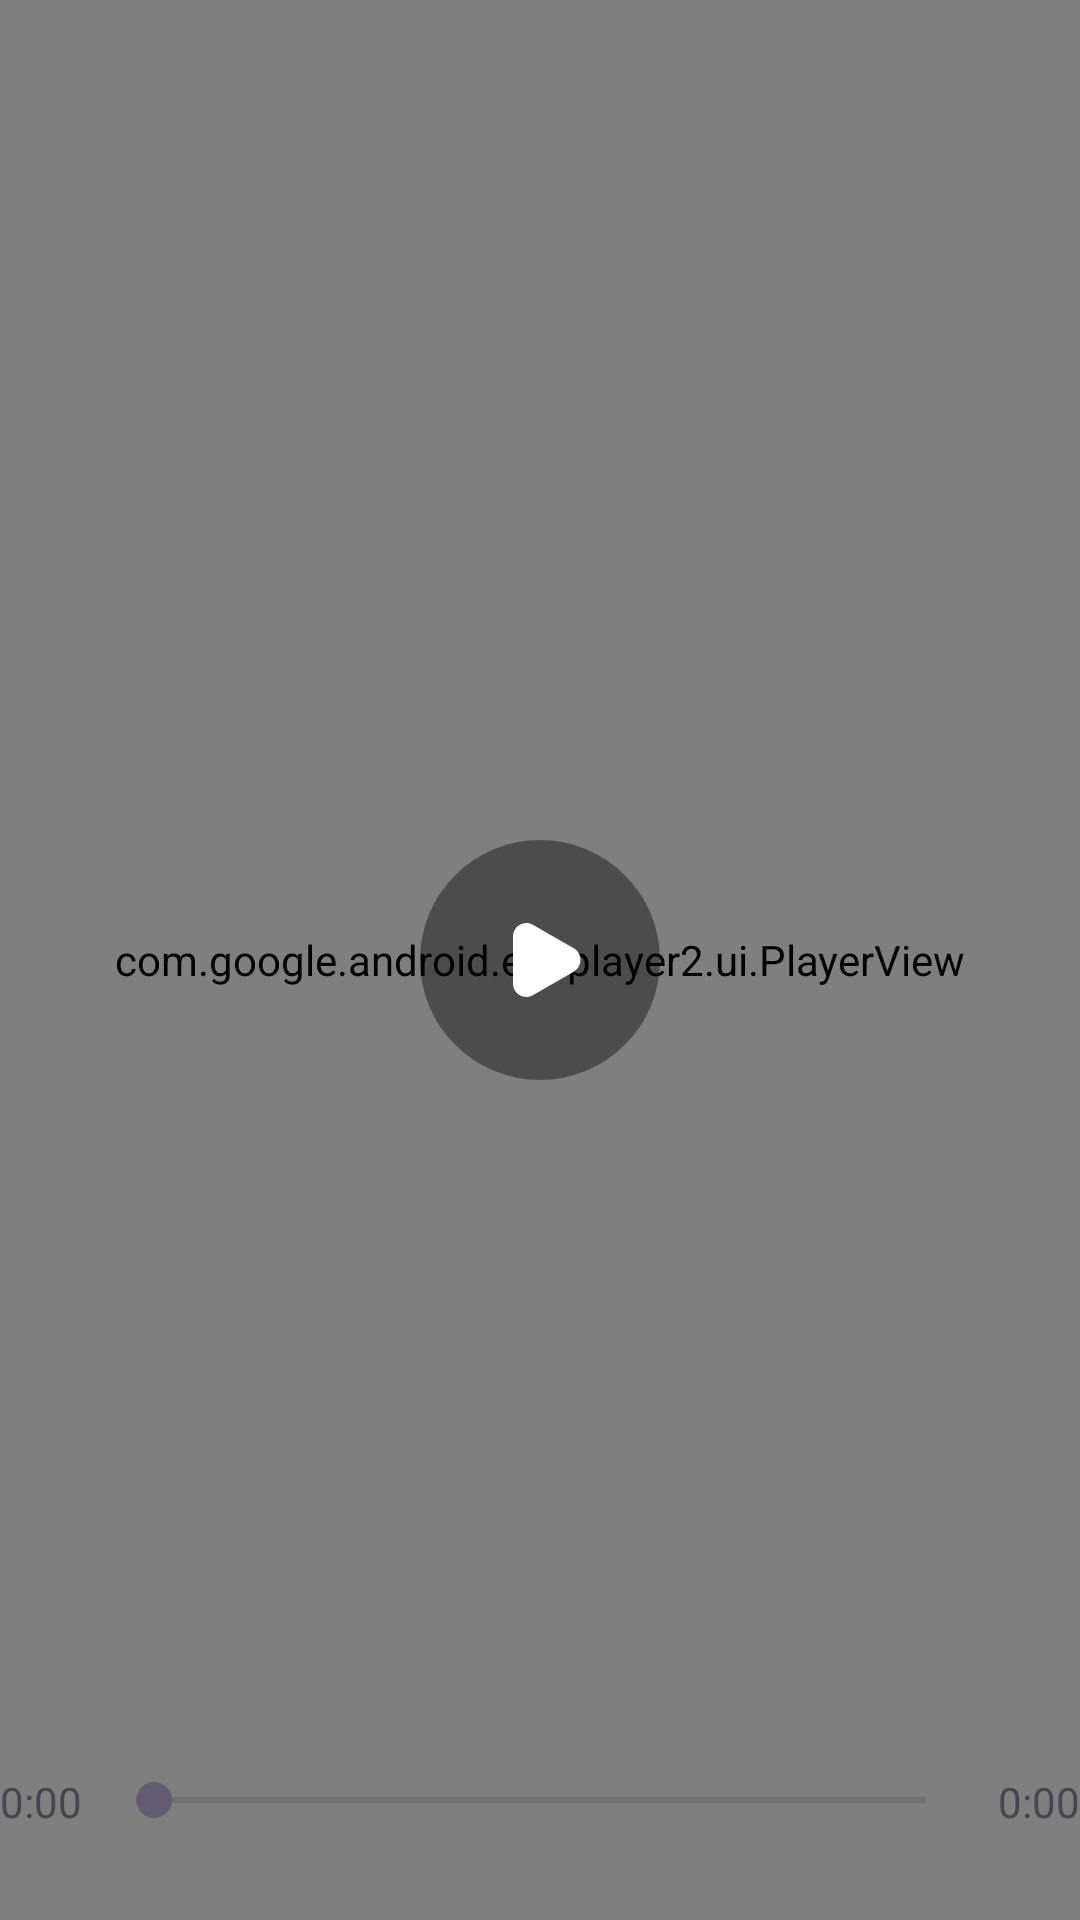

Named icons in this screenshot (1080 × 1920) and their bounding boxes, rect(x1, y1, x2, y2):
play exoplayer: rect(420, 840, 660, 1080)
